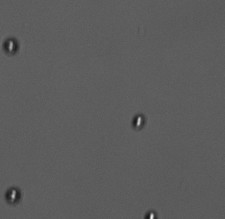Dead Cell: (4, 187, 22, 203)
Living Cell: (2, 37, 20, 56), (130, 113, 148, 130)
